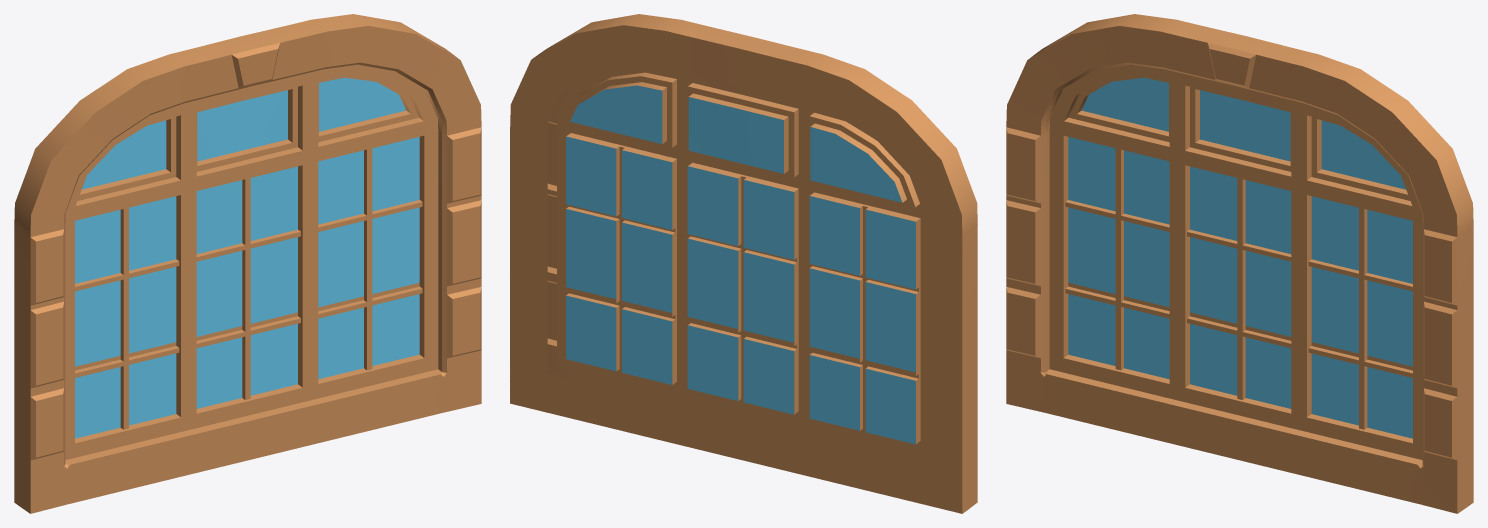
The model's file is WindowLargeCurveCadre.fbx.
3 views of the same model, side by side, from view 1: azimuth 30°, elevation 25°; view 2: azimuth 150°, elevation 25°; view 3: azimuth 330°, elevation 25° (orthographic).
Visible parts, largest first — view 1: WindowLargeCurveCadre; view 2: WindowLargeCurveCadre; view 3: WindowLargeCurveCadre.
Boxes of the visible parts, bbox=[...] form: WindowLargeCurveCadre: bbox=[14, 14, 481, 513]; WindowLargeCurveCadre: bbox=[510, 14, 977, 513]; WindowLargeCurveCadre: bbox=[1006, 14, 1473, 513].
Size of the model in its own units: 4.25 by 0.2953 by 3.69.
